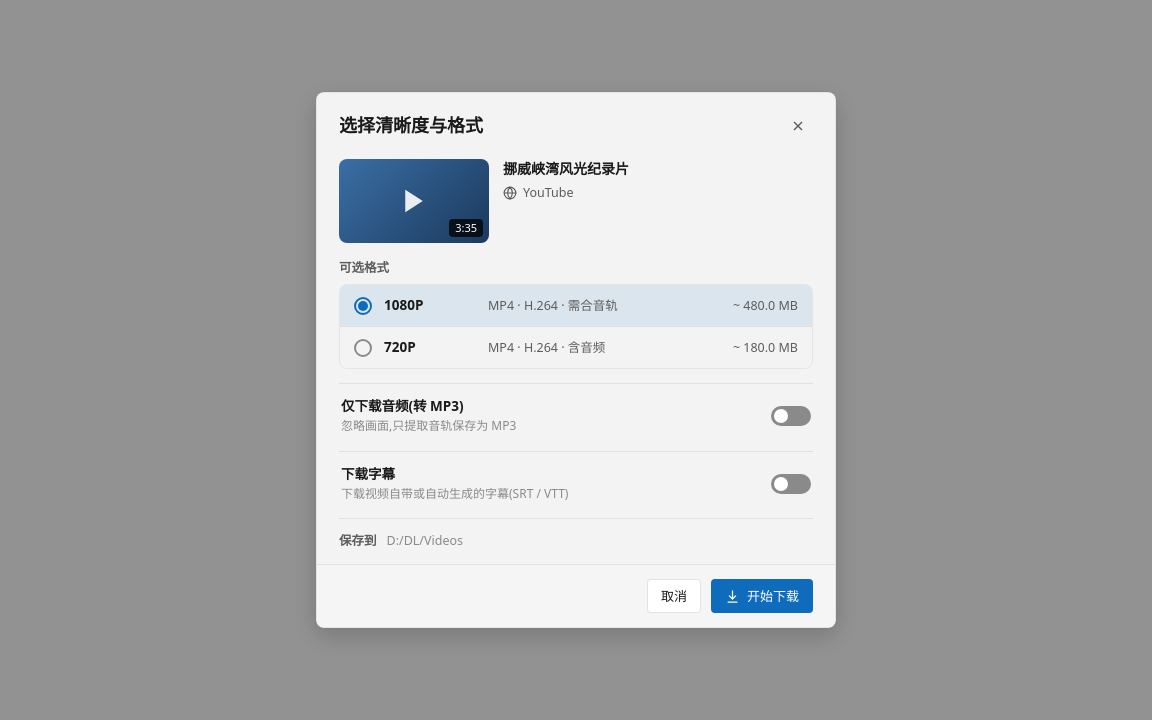
audioOnly 开启 → 隐藏整个字幕区
Expected: the switch named "下载字幕" is shown, x1=771 y1=474 x2=811 y2=494
Step 1. Click the switch named "仅下载音频转 MP3" → (791, 416), box x1=771 y1=406 x2=811 y2=426
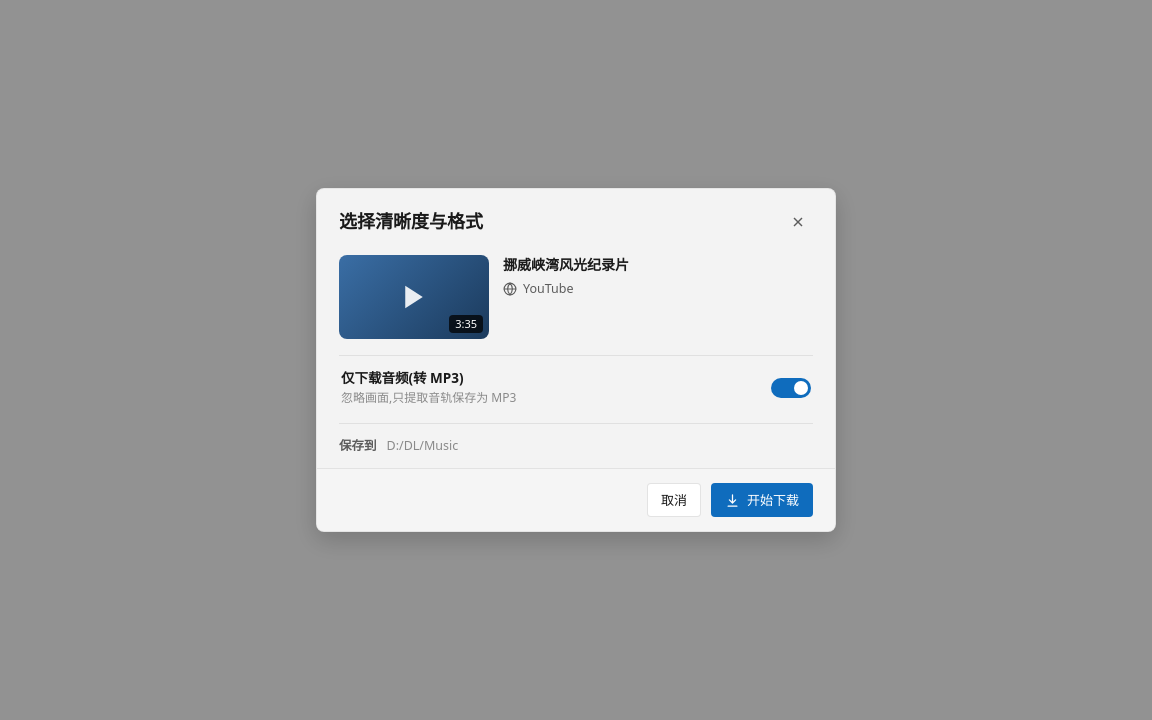
Result: the text "下载字幕" is gone
